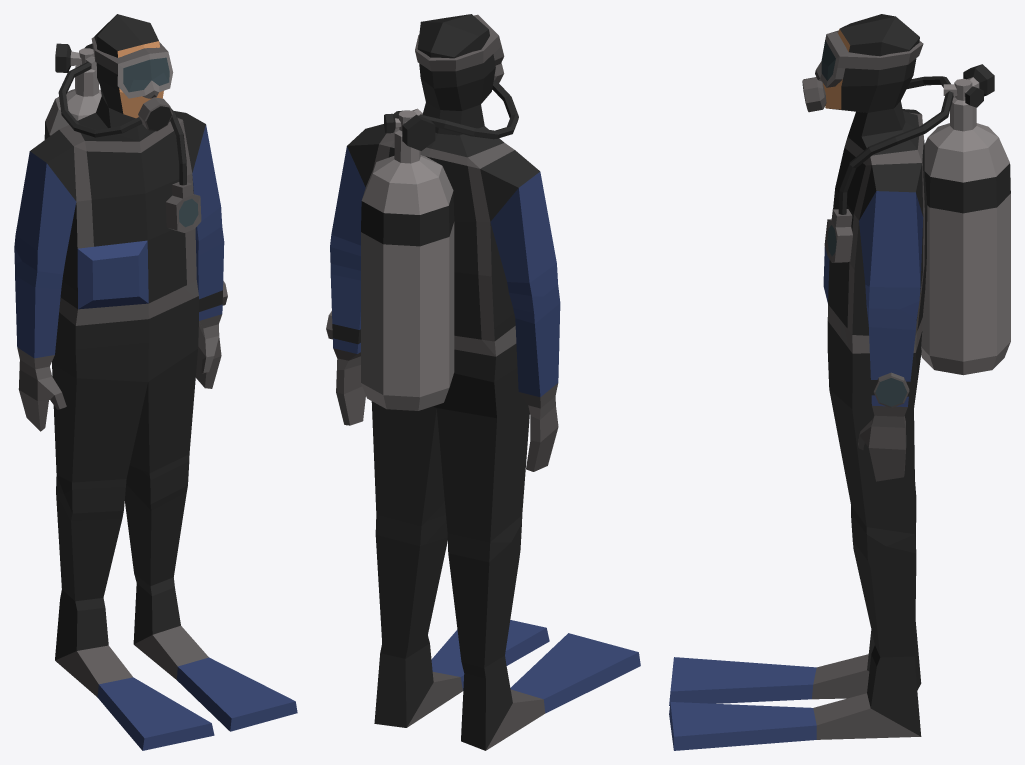
File: people_man-scuba.fbx
3 views of the same model, side by side, from view 1: azimuth 30°, elevation 25°; view 2: azimuth 150°, elevation 25°; view 3: azimuth 270°, elevation 25° (orthographic). The views are drawn at different scales.
Parts seen in each view (by area): view 1: people_man_scuba; view 2: people_man_scuba; view 3: people_man_scuba.
Part boxes in pixels (x1,y1,x2,y2): people_man_scuba: (14,14,297,750); people_man_scuba: (326,14,640,750); people_man_scuba: (669,14,1010,750).
Size of the model in its own units: 63.53 by 200 by 89.29.
